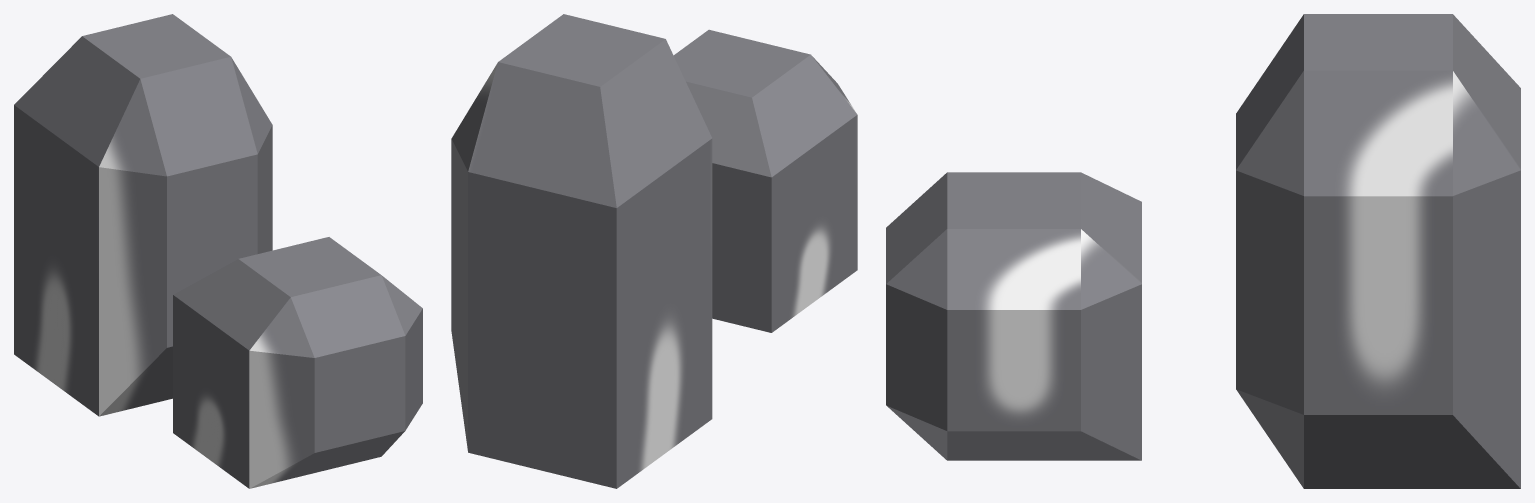
The model's file is SurroundingRocks.glb.
The picture shows the model from 3 angles, left to right: view 1: azimuth 30°, elevation 25°; view 2: azimuth 150°, elevation 25°; view 3: azimuth 270°, elevation 25°; orthographic projection. The views are drawn at different scales.
Visible parts, largest first — view 1: Cube.001, Cube; view 2: Cube.001, Cube; view 3: Cube.001, Cube.
Part boxes in pixels (x1,y1,x2,y2): Cube.001: (14, 14, 272, 416); Cube: (173, 237, 422, 488); Cube.001: (451, 14, 712, 488); Cube: (673, 29, 857, 332); Cube.001: (1236, 14, 1520, 488); Cube: (886, 172, 1141, 460).
Size of the model in its own units: 4.55 by 7.74 by 10.63.
1 material, 1 textured.
